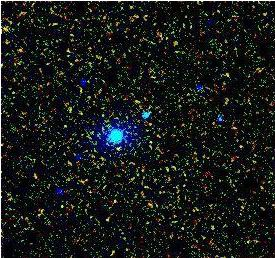star: (102, 135, 132, 165)
